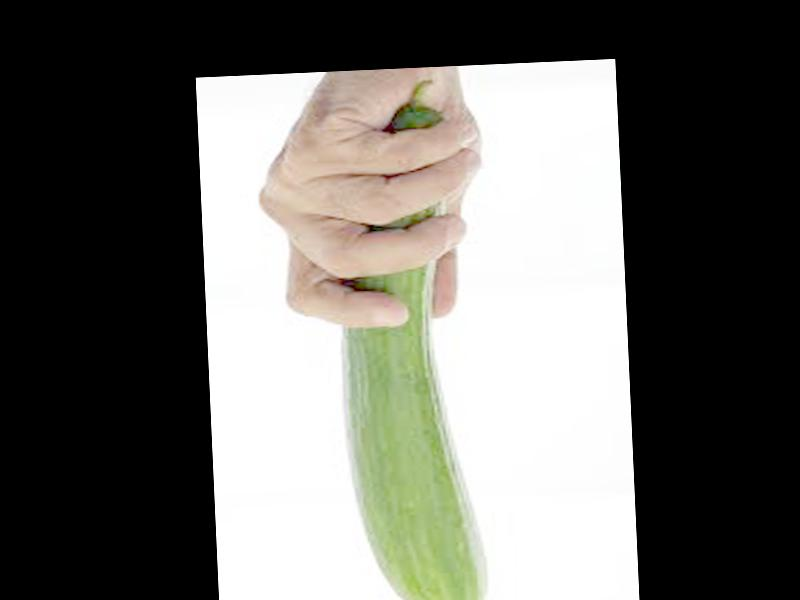Cucumber: (331, 80, 491, 600)
